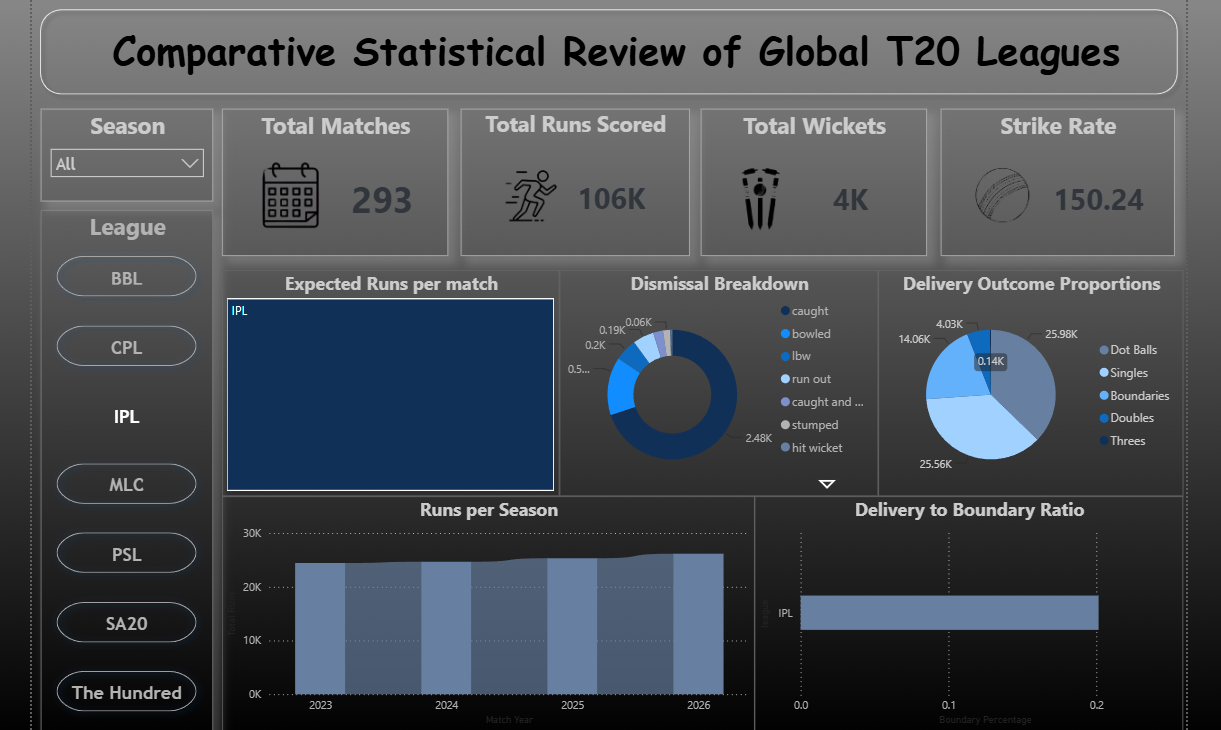

Layout of this report page (visuals, bound fields, positions):
{"tool":"powerbi","page":{"name":"Page 1","canvas":[1285,820],"ordinal":0},"visuals":[{"type":"cardVisual","title":"Total Matches","fields":{"Data":["public matches.Total Matches"]},"box":[211.7,126.7,252.1,164.3],"z":0},{"type":"advancedSlicerVisual","title":"League","fields":{"Values":["public matches.league"]},"box":[9.7,239.5,192.2,580.7],"z":1000},{"type":"cardVisual","title":"Total Wickets","fields":{"Data":["public deliveries.Wickets Taken"]},"box":[745.1,126.7,252.1,164.3],"z":2000},{"type":"slicer","title":"Season","fields":{"Values":["public matches.Match Year"]},"box":[9.7,126.7,192.2,103.1],"z":3000},{"type":"cardVisual","title":"Total Runs Scored","fields":{"Data":["Sum(public deliveries.runs_total)"]},"box":[477.7,126.7,254.9,164.3],"z":4000},{"type":"treemap","title":"Expected Runs per match","fields":{"Group":["public matches.league"],"Values":["public deliveries.Average Runs per match"]},"box":[211.7,306.4,376,252.1],"z":5000},{"type":"ribbonChart","title":"Runs per Season","fields":{"Category":["public matches.Match Year"],"Y":["public deliveries.Total Runs"]},"box":[211.7,558.5,593.3,261.8],"z":6000},{"type":"donutChart","title":"Dismissal Breakdown","fields":{"Y":["CountNonNull(public deliveries.dismissal_kind)"],"Category":["public deliveries.dismissal_kind"]},"box":[587.7,306.4,355.1,252.1],"z":7000},{"type":"pieChart","title":"Delivery Outcome Proportions","fields":{"Category":["public deliveries.Run_category"],"Y":["CountNonNull(public deliveries.Run_category)"]},"box":[942.8,306.4,339.8,252.1],"z":8000},{"type":"clusteredBarChart","title":"Delivery to Boundary Ratio","fields":{"Y":["public matches.Boundary Percentage"],"Category":["public matches.league"]},"box":[805,558.5,477.7,261.8],"z":9000},{"type":"shape","box":[0,7,1285.4,112.8],"z":10000},{"type":"textbox","box":[20.9,26.5,1242.3,85],"z":11000},{"type":"cardVisual","title":"Strike Rate","fields":{"Data":["public deliveries.Strike Rate"]},"box":[1012.5,126.7,260.4,164.3],"z":12000}]}

Visuals, with their boxes on the page's 1285x820 design canvas (x1, y1, x2, y2). These are canvas units, not pixel positions in the 1221x730 screenshot, which may show the page scaled, cropped or inside an application window:
"Total Matches" cardVisual: locate(212, 127, 464, 291)
"League" advancedSlicerVisual: locate(10, 240, 202, 820)
"Total Wickets" cardVisual: locate(745, 127, 997, 291)
"Season" slicer: locate(10, 127, 202, 230)
"Total Runs Scored" cardVisual: locate(478, 127, 733, 291)
"Expected Runs per match" treemap: locate(212, 306, 588, 558)
"Runs per Season" ribbonChart: locate(212, 558, 805, 820)
"Dismissal Breakdown" donutChart: locate(588, 306, 943, 558)
"Delivery Outcome Proportions" pieChart: locate(943, 306, 1283, 558)
"Delivery to Boundary Ratio" clusteredBarChart: locate(805, 558, 1283, 820)
shape: locate(0, 7, 1285, 120)
textbox: locate(21, 26, 1263, 112)
"Strike Rate" cardVisual: locate(1012, 127, 1273, 291)
